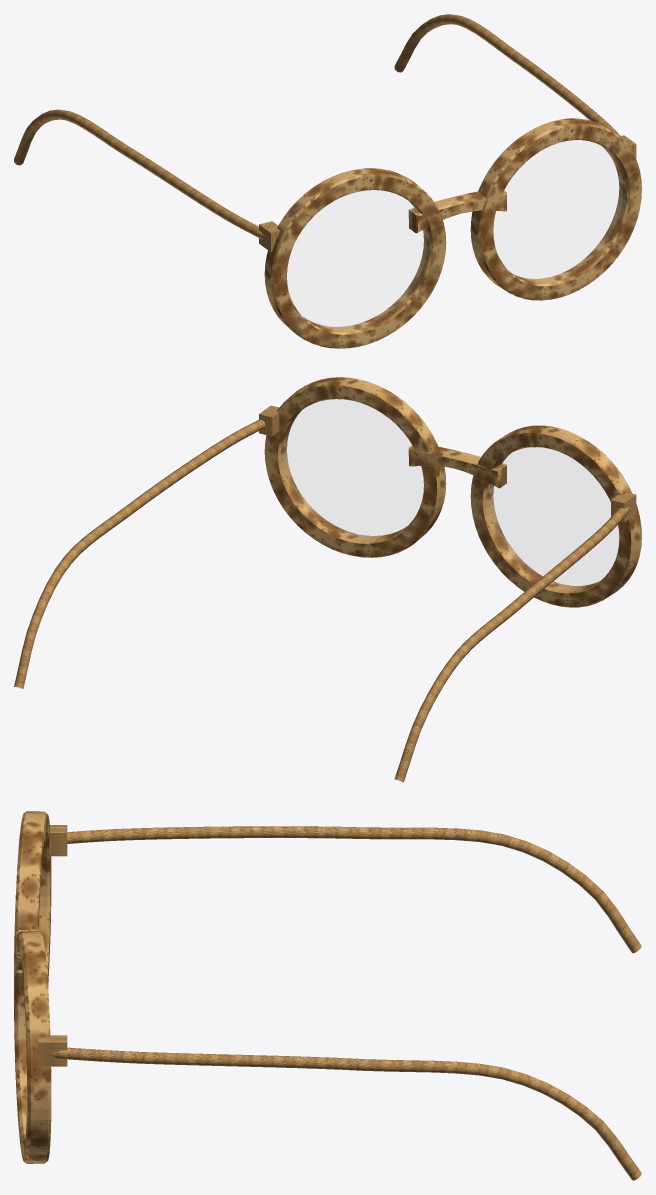
Rendered from NY-W02_Nila_Honey_tortoise.glb.
3 renders of one model, top to bottom at view 1: azimuth 30°, elevation 25°; view 2: azimuth 150°, elevation 25°; view 3: azimuth 270°, elevation 25°, orthographic. The views are drawn at different scales.
Visible parts, largest first — view 1: Nila_Honey_tortoise_Acetate, Nila_Honey_tortoise_Lenses; view 2: Nila_Honey_tortoise_Acetate, Nila_Honey_tortoise_Lenses; view 3: Nila_Honey_tortoise_Acetate.
Boxes of the visible parts, x1=… form: Nila_Honey_tortoise_Acetate: x1=14, y1=14, x2=641, y2=348; Nila_Honey_tortoise_Lenses: x1=287, y1=140, x2=622, y2=328; Nila_Honey_tortoise_Acetate: x1=14, y1=377, x2=641, y2=782; Nila_Honey_tortoise_Lenses: x1=284, y1=399, x2=618, y2=587; Nila_Honey_tortoise_Acetate: x1=14, y1=811, x2=641, y2=1180.
Size of the model in its own units: 0.1354 by 0.0554 by 0.1506.
2 materials, 1 textured.
